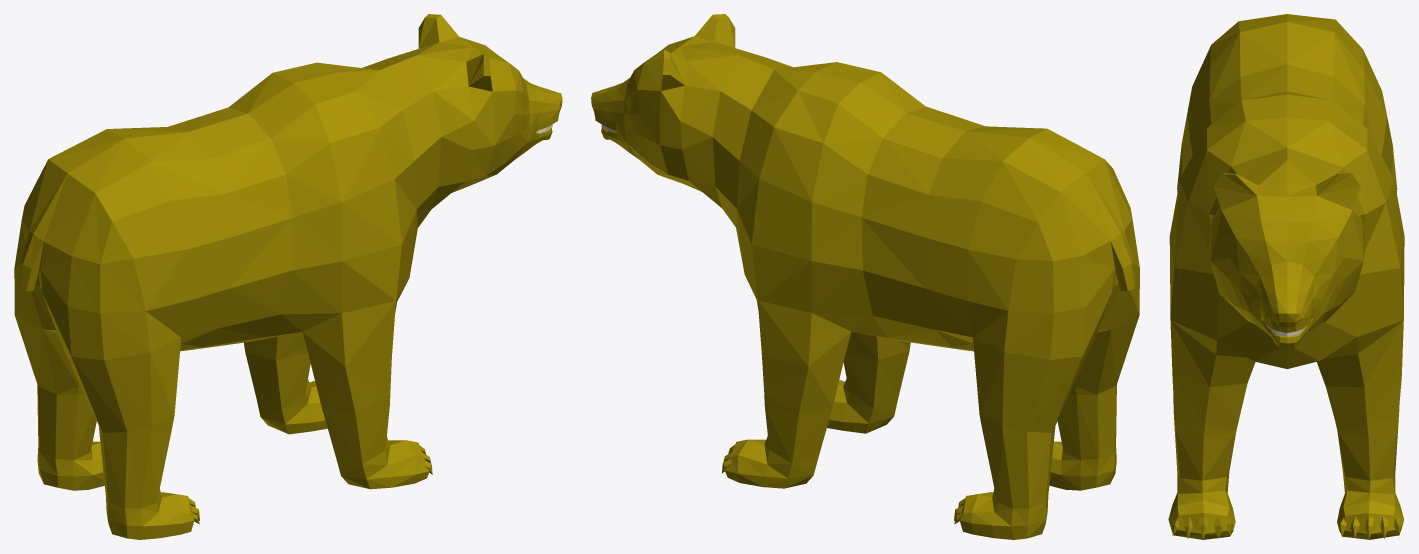
Rendered from Bear.gltf.
3 views of the same model, side by side, from view 1: azimuth 30°, elevation 25°; view 2: azimuth 150°, elevation 25°; view 3: azimuth 270°, elevation 25° (orthographic). The views are drawn at different scales.
Parts seen in each view (by area): view 1: node-0; view 2: node-0; view 3: node-0.
Part boxes in pixels (x1,y1,x2,y2): node-0: (14, 14, 562, 539); node-0: (591, 14, 1139, 539); node-0: (1168, 14, 1404, 539).
Bounding box in the file's own units: 286 × 196 × 102.
